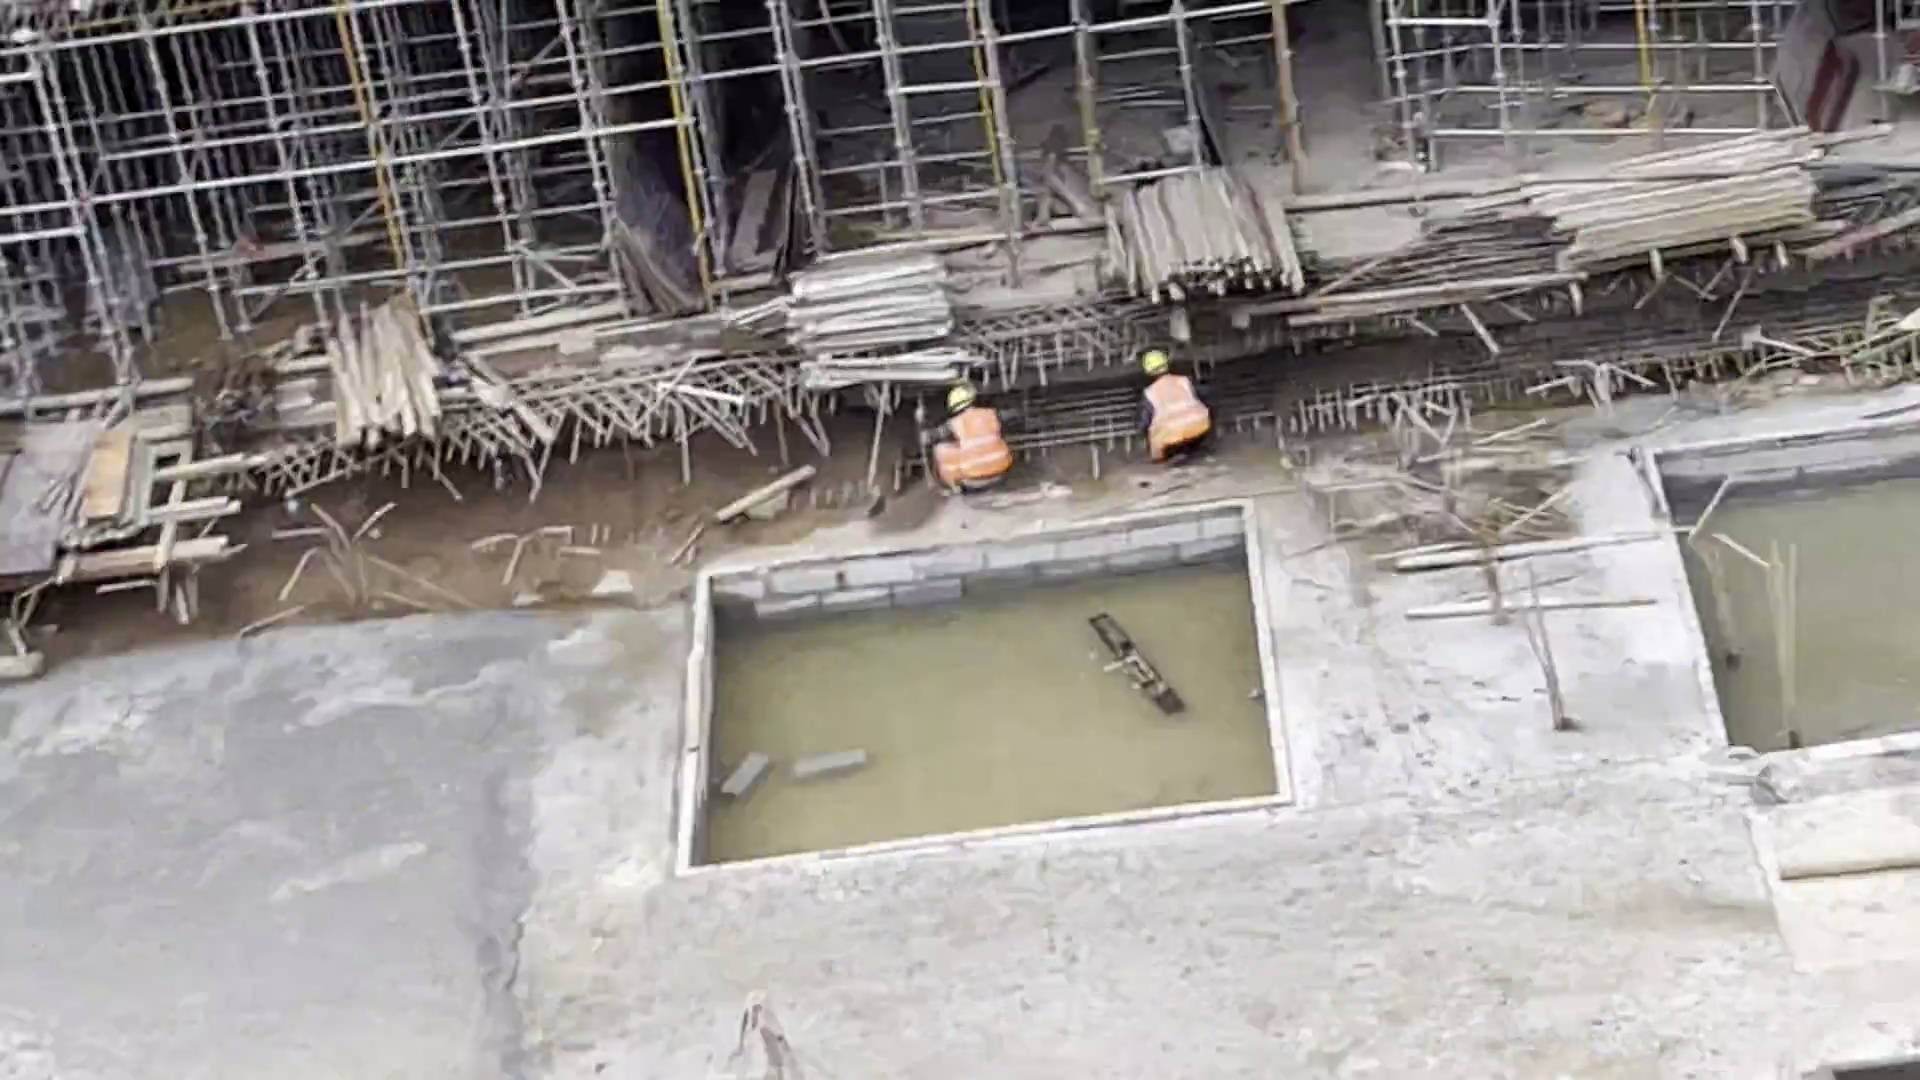helmet: (945, 385, 974, 413), (1143, 352, 1173, 373)
person: (924, 381, 1013, 499), (1131, 350, 1211, 465)
vest: (932, 406, 1011, 487), (1139, 374, 1211, 459)
wood: (1526, 123, 1829, 270), (777, 241, 957, 383), (326, 305, 433, 441)
